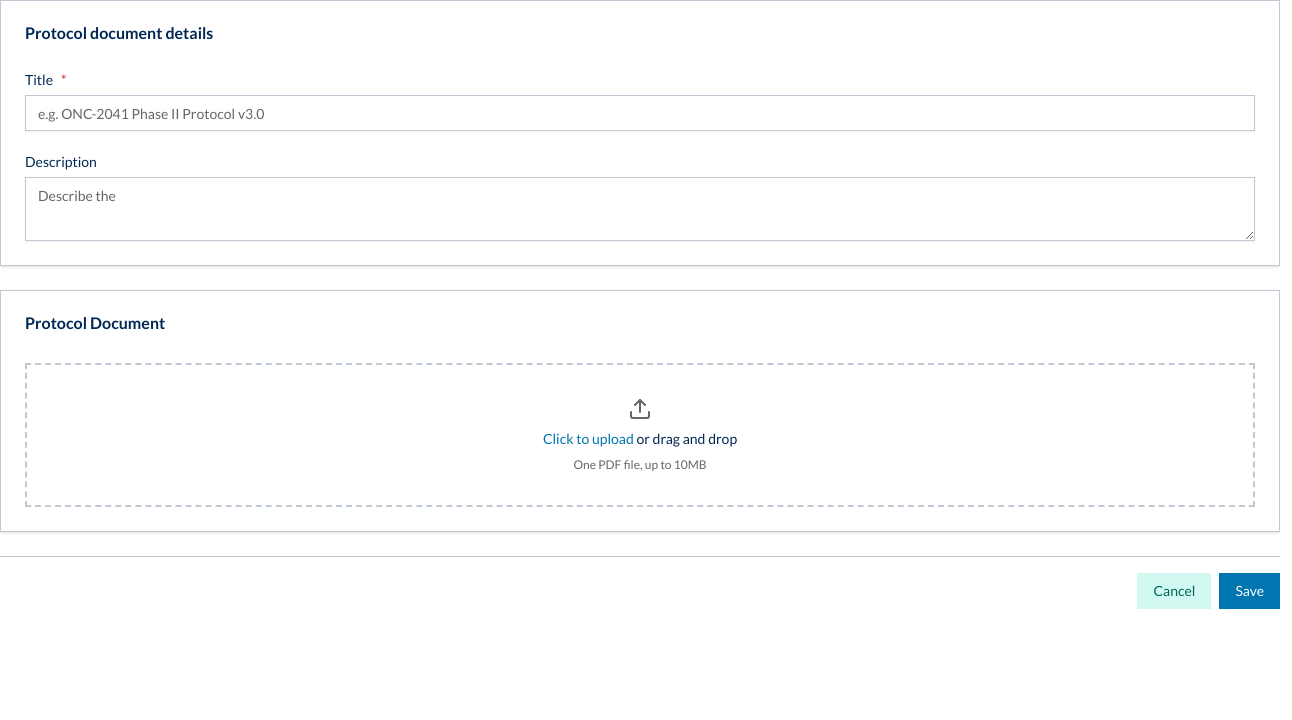
Scenario: RequestForm › shows validation errors when required fields are missing
Click the button "Save" at x=1250, y=591, box [1219, 573, 1280, 609]
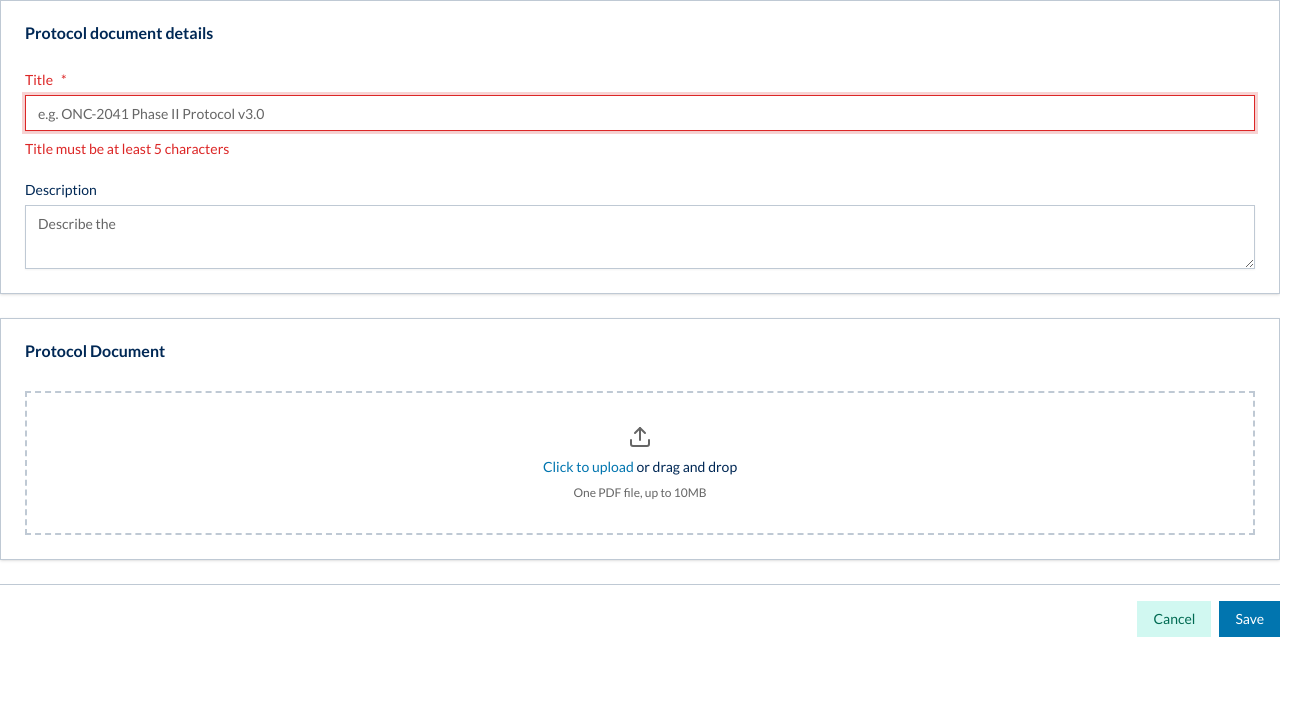
Expected: the text "Title must be at least 5 characters" is shown, [25, 140, 229, 157]
